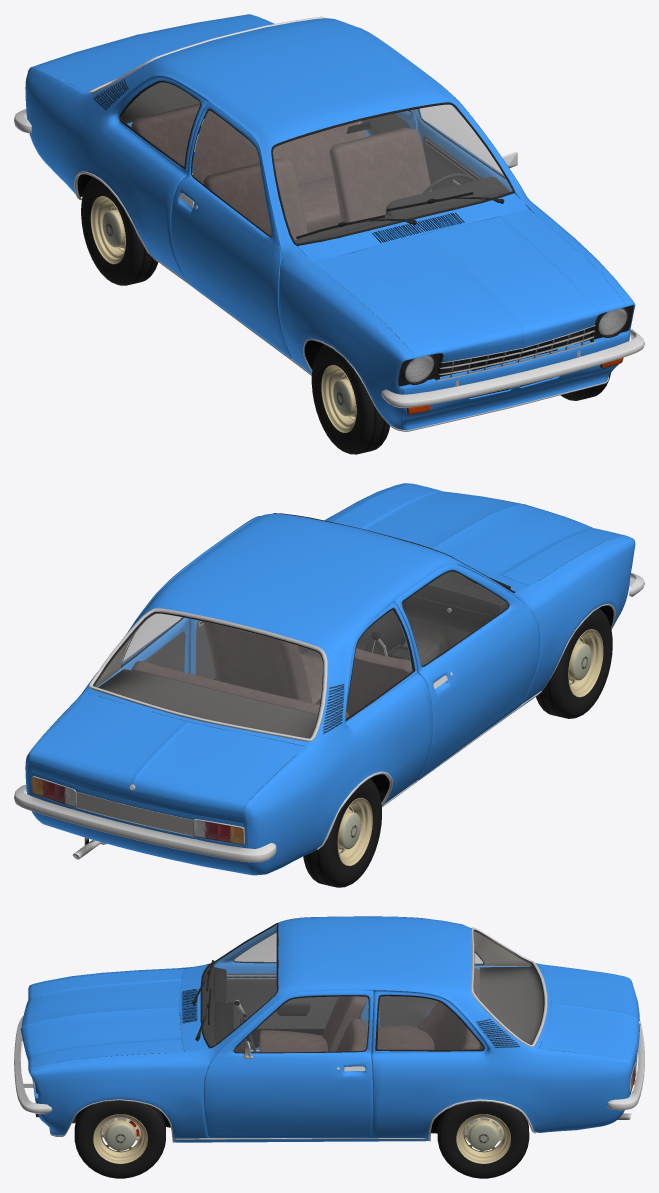
3 views of the same model, one above another, from view 1: azimuth 30°, elevation 25°; view 2: azimuth 150°, elevation 25°; view 3: azimuth 270°, elevation 25° (orthographic). The views are drawn at different scales.
Parts seen in each view (by area): view 1: Body_ChevetteSL76_ChevetteMaterialLataria_0, ParabrisaeVidros_Vidros_0, Box060, object 21, Pneu_D_Front_Pneu_0, PecasInternas_PainelEacessorios_0, Pneu_D_Back_Pneu_0, AssoalhoECarpet_CarpetEAssoalho_0, Pneu_D_Back_Rodas_0, Pneu_D_Front_Rodas_0, object 19; view 2: Body_ChevetteSL76_ChevetteMaterialLataria_0, ParabrisaeVidros_Vidros_0, object 21, Box060, AssoalhoECarpet_CarpetEAssoalho_0, PecasInternas_PainelEacessorios_0, Pneu_D_Front_Pneu_0, Pneu_D_Back_Pneu_0, Pneu_D_Back_Rodas_0, Pneu_D_Front_Rodas_0, object 20; view 3: Body_ChevetteSL76_ChevetteMaterialLataria_0, ParabrisaeVidros_Vidros_0, object 21, Box060, AssoalhoECarpet_CarpetEAssoalho_0, Pneu_E_Front_Pneu_0, Pneu_E_Back_Pneu_0, PecasInternas_PainelEacessorios_0, Pneu_E_Back_Rodas_0, Pneu_E_Front_Rodas_0.
Part boxes in pixels (box(x1,y1,x2,y2)): Body_ChevetteSL76_ChevetteMaterialLataria_0: box(25, 14, 635, 430); ParabrisaeVidros_Vidros_0: box(119, 71, 512, 243); Box060: box(131, 103, 431, 240); object 21: box(14, 16, 644, 431); Pneu_D_Front_Pneu_0: box(311, 344, 389, 454); PecasInternas_PainelEacessorios_0: box(196, 121, 519, 252); Pneu_D_Back_Pneu_0: box(81, 177, 158, 285); AssoalhoECarpet_CarpetEAssoalho_0: box(77, 82, 590, 428); Pneu_D_Back_Rodas_0: box(90, 196, 125, 264); Pneu_D_Front_Rodas_0: box(321, 365, 356, 432); object 19: box(405, 308, 626, 381); Body_ChevetteSL76_ChevetteMaterialLataria_0: box(25, 483, 635, 875); ParabrisaeVidros_Vidros_0: box(94, 572, 507, 737); object 21: box(14, 513, 644, 862); Box060: box(131, 621, 411, 782); AssoalhoECarpet_CarpetEAssoalho_0: box(81, 596, 613, 844); PecasInternas_PainelEacessorios_0: box(364, 571, 507, 664); Pneu_D_Front_Pneu_0: box(536, 608, 612, 718); Pneu_D_Back_Pneu_0: box(303, 778, 381, 887); Pneu_D_Back_Rodas_0: box(337, 797, 372, 865); Pneu_D_Front_Rodas_0: box(568, 629, 603, 697); object 20: box(32, 777, 243, 844); Body_ChevetteSL76_ChevetteMaterialLataria_0: box(20, 916, 639, 1142); ParabrisaeVidros_Vidros_0: box(202, 924, 543, 1052); object 21: box(14, 923, 644, 1142); Box060: box(259, 968, 480, 1078); AssoalhoECarpet_CarpetEAssoalho_0: box(53, 924, 577, 1133); Pneu_E_Front_Pneu_0: box(74, 1100, 165, 1178); Pneu_E_Back_Pneu_0: box(437, 1101, 529, 1178); PecasInternas_PainelEacessorios_0: box(202, 965, 310, 1081); Pneu_E_Back_Rodas_0: box(456, 1114, 510, 1163); Pneu_E_Front_Rodas_0: box(93, 1114, 147, 1163).
Size of the model in its own units: 1.61 by 1.34 by 4.12.
Materials: 11 (8 with a texture image).
